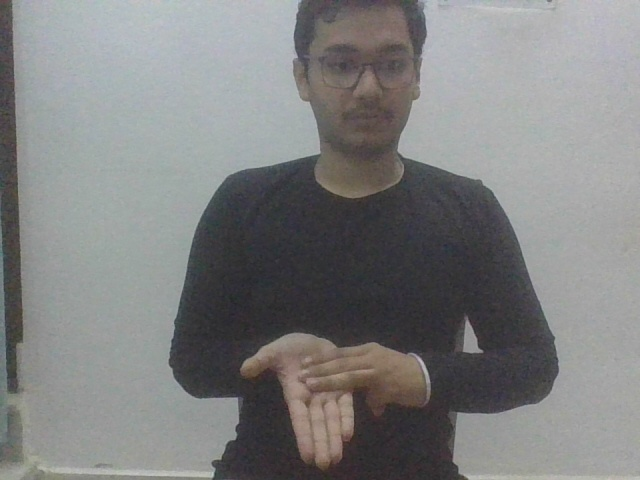M: (236, 331, 437, 475)
